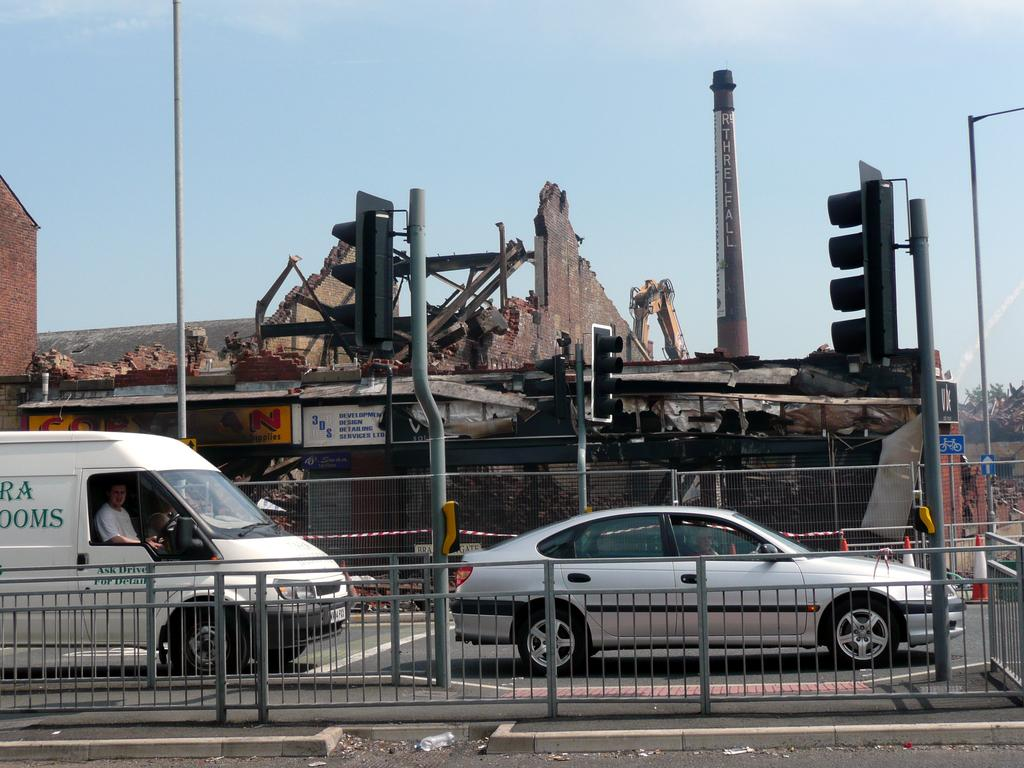vehicle: (452, 506, 967, 673), (0, 430, 348, 677)
